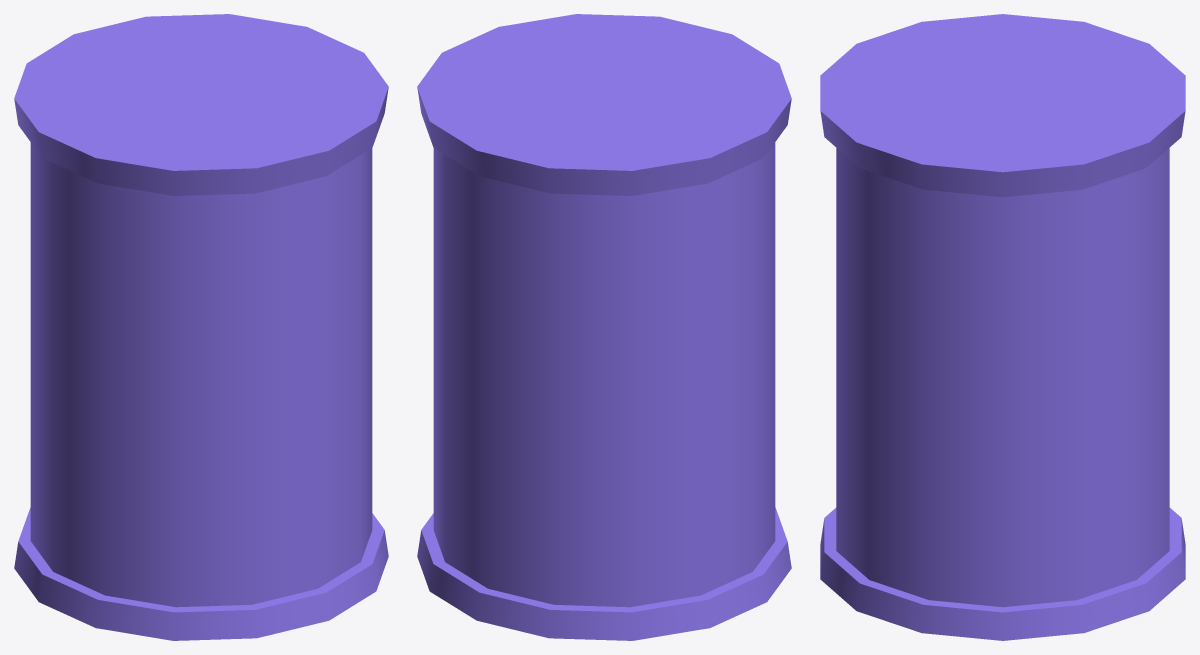
Rendered from ADML_Barrel.fbx.
3 views of the same model, side by side, from view 1: azimuth 30°, elevation 25°; view 2: azimuth 150°, elevation 25°; view 3: azimuth 270°, elevation 25° (orthographic).
Visible parts, largest first — view 1: ADML_Barrel; view 2: ADML_Barrel; view 3: ADML_Barrel.
Part boxes in pixels (<box>): ADML_Barrel: <box>14,14,388,640</box>; ADML_Barrel: <box>417,14,791,640</box>; ADML_Barrel: <box>820,14,1185,640</box>.
Size of the model in its own units: 25.97 by 25.32 by 35.86.
